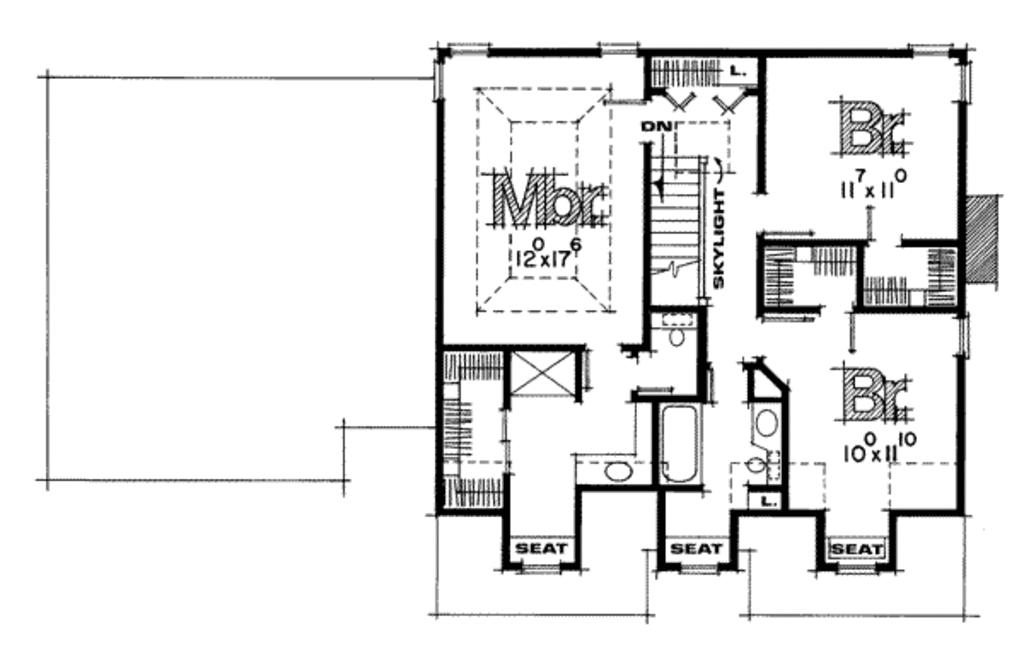large_sink: (737, 449, 792, 489), (657, 309, 696, 354)
small_sink: (572, 448, 656, 491), (749, 402, 788, 466)
stairs: (634, 118, 709, 305)
tub: (650, 404, 706, 489)
window: (445, 37, 492, 63), (596, 38, 642, 64), (907, 38, 961, 60), (833, 557, 884, 580), (950, 311, 974, 359), (519, 560, 561, 575), (676, 565, 723, 578)
